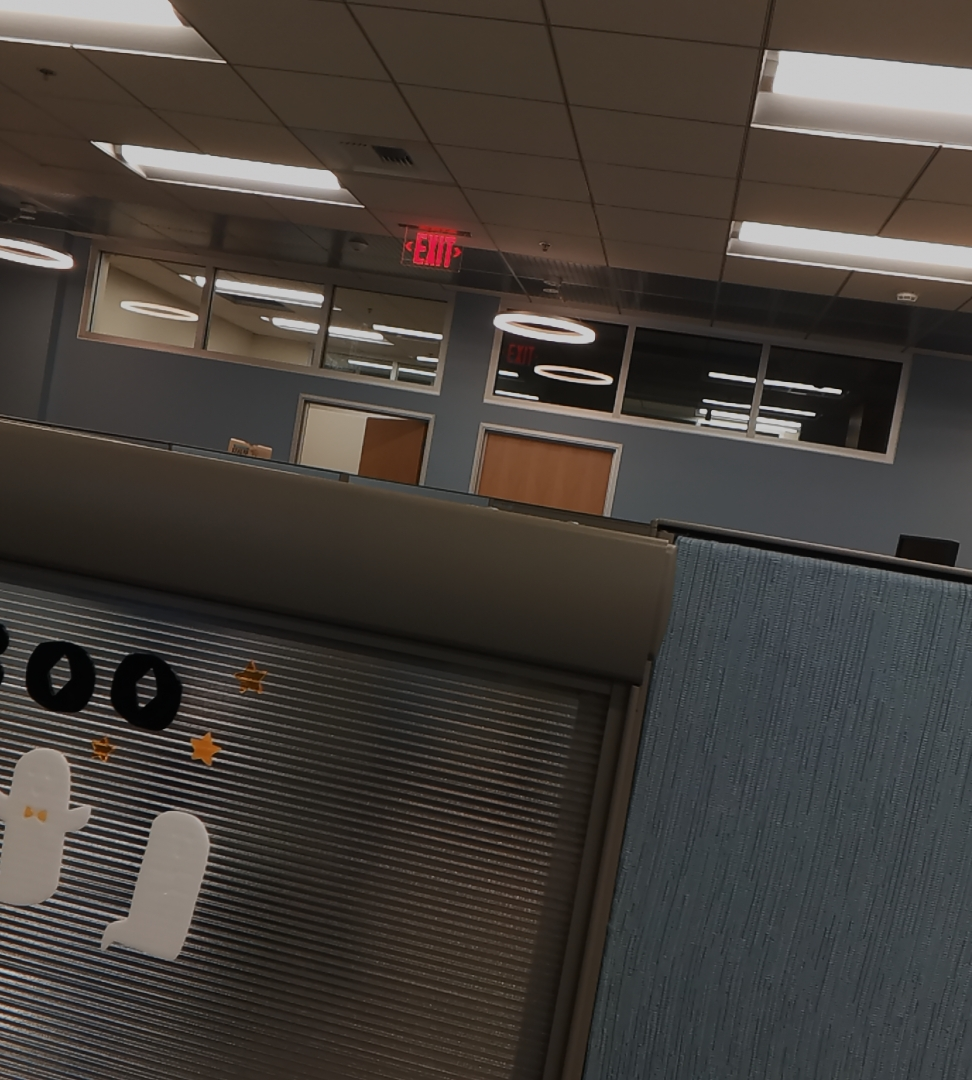emergency_exit: (398, 222, 468, 274)
